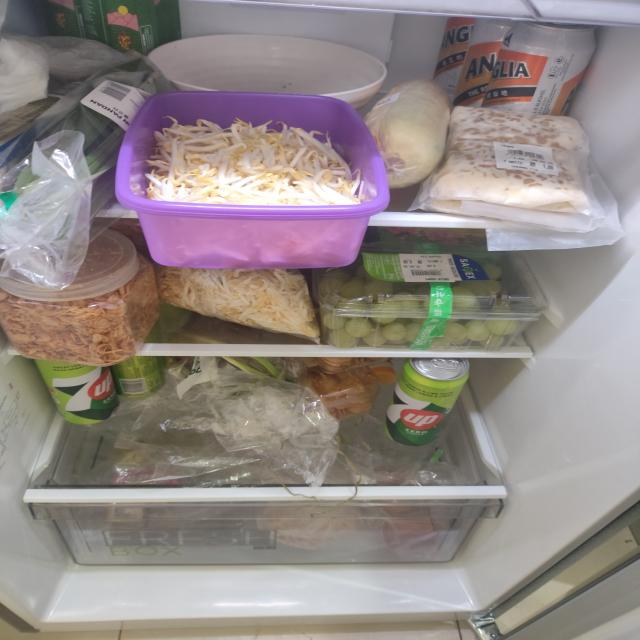bean_sprouts: (144, 115, 366, 206)
corn: (362, 78, 452, 190)
tempeh: (430, 105, 590, 214)
